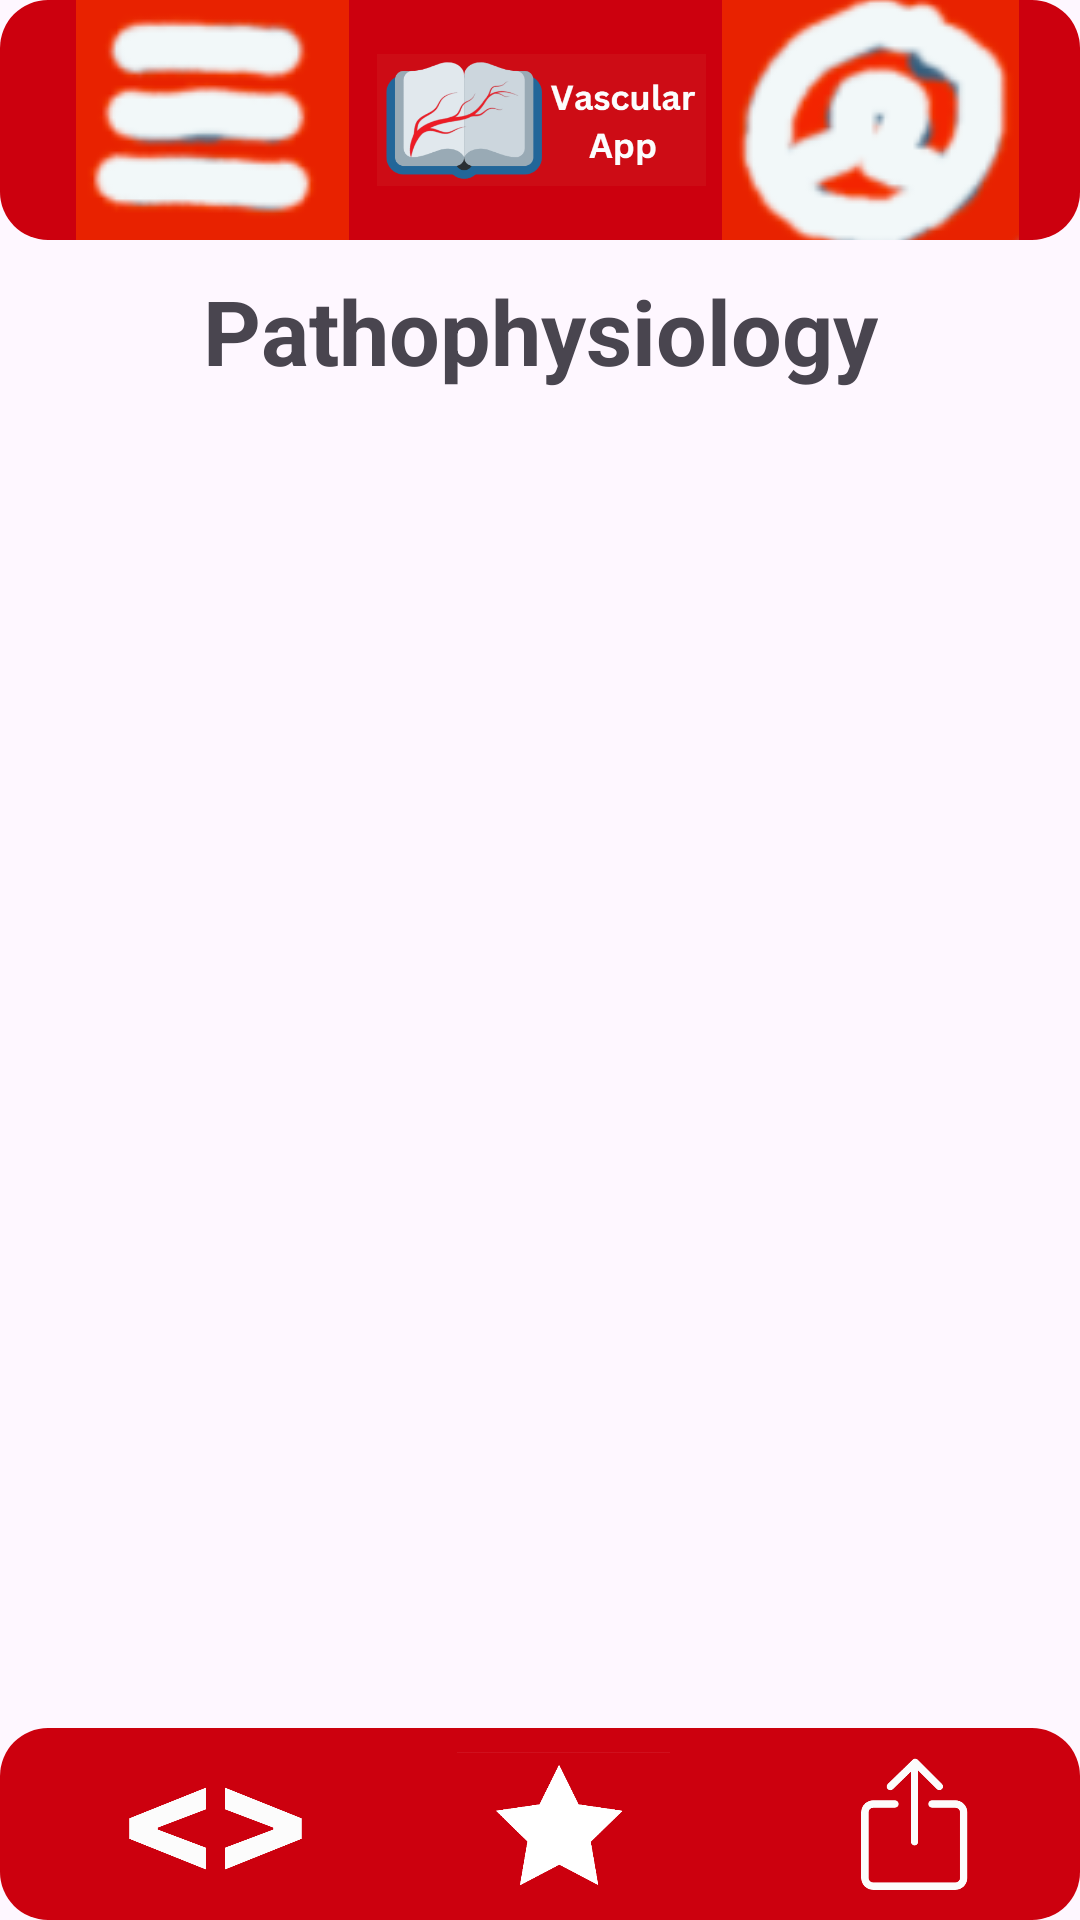

Where to tap for icons on this 1080×1920 app screen, as (x=x, y=y):
menu: (x=212, y=120)
